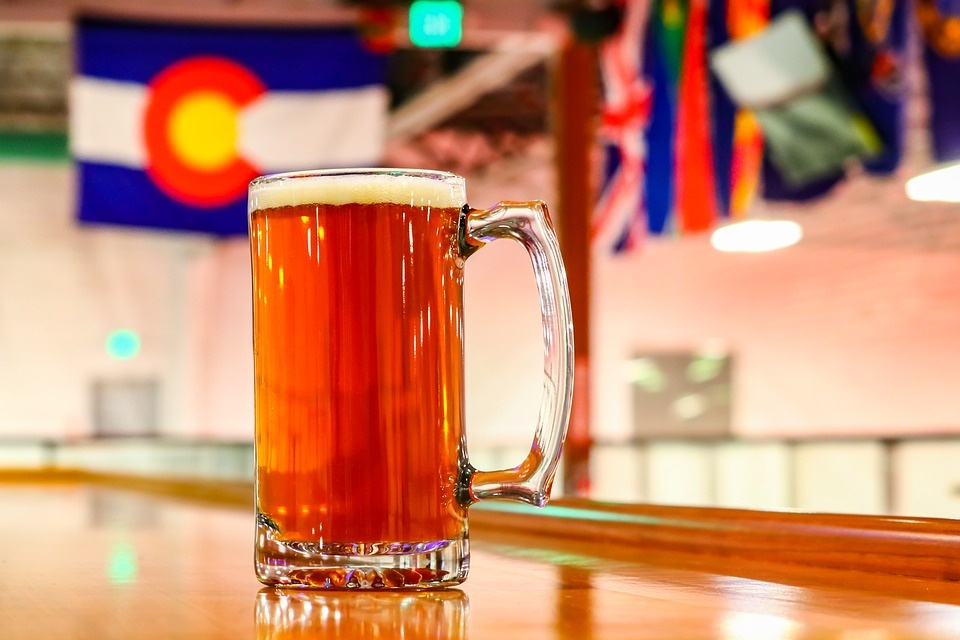glassBeer: (251, 160, 475, 583)
